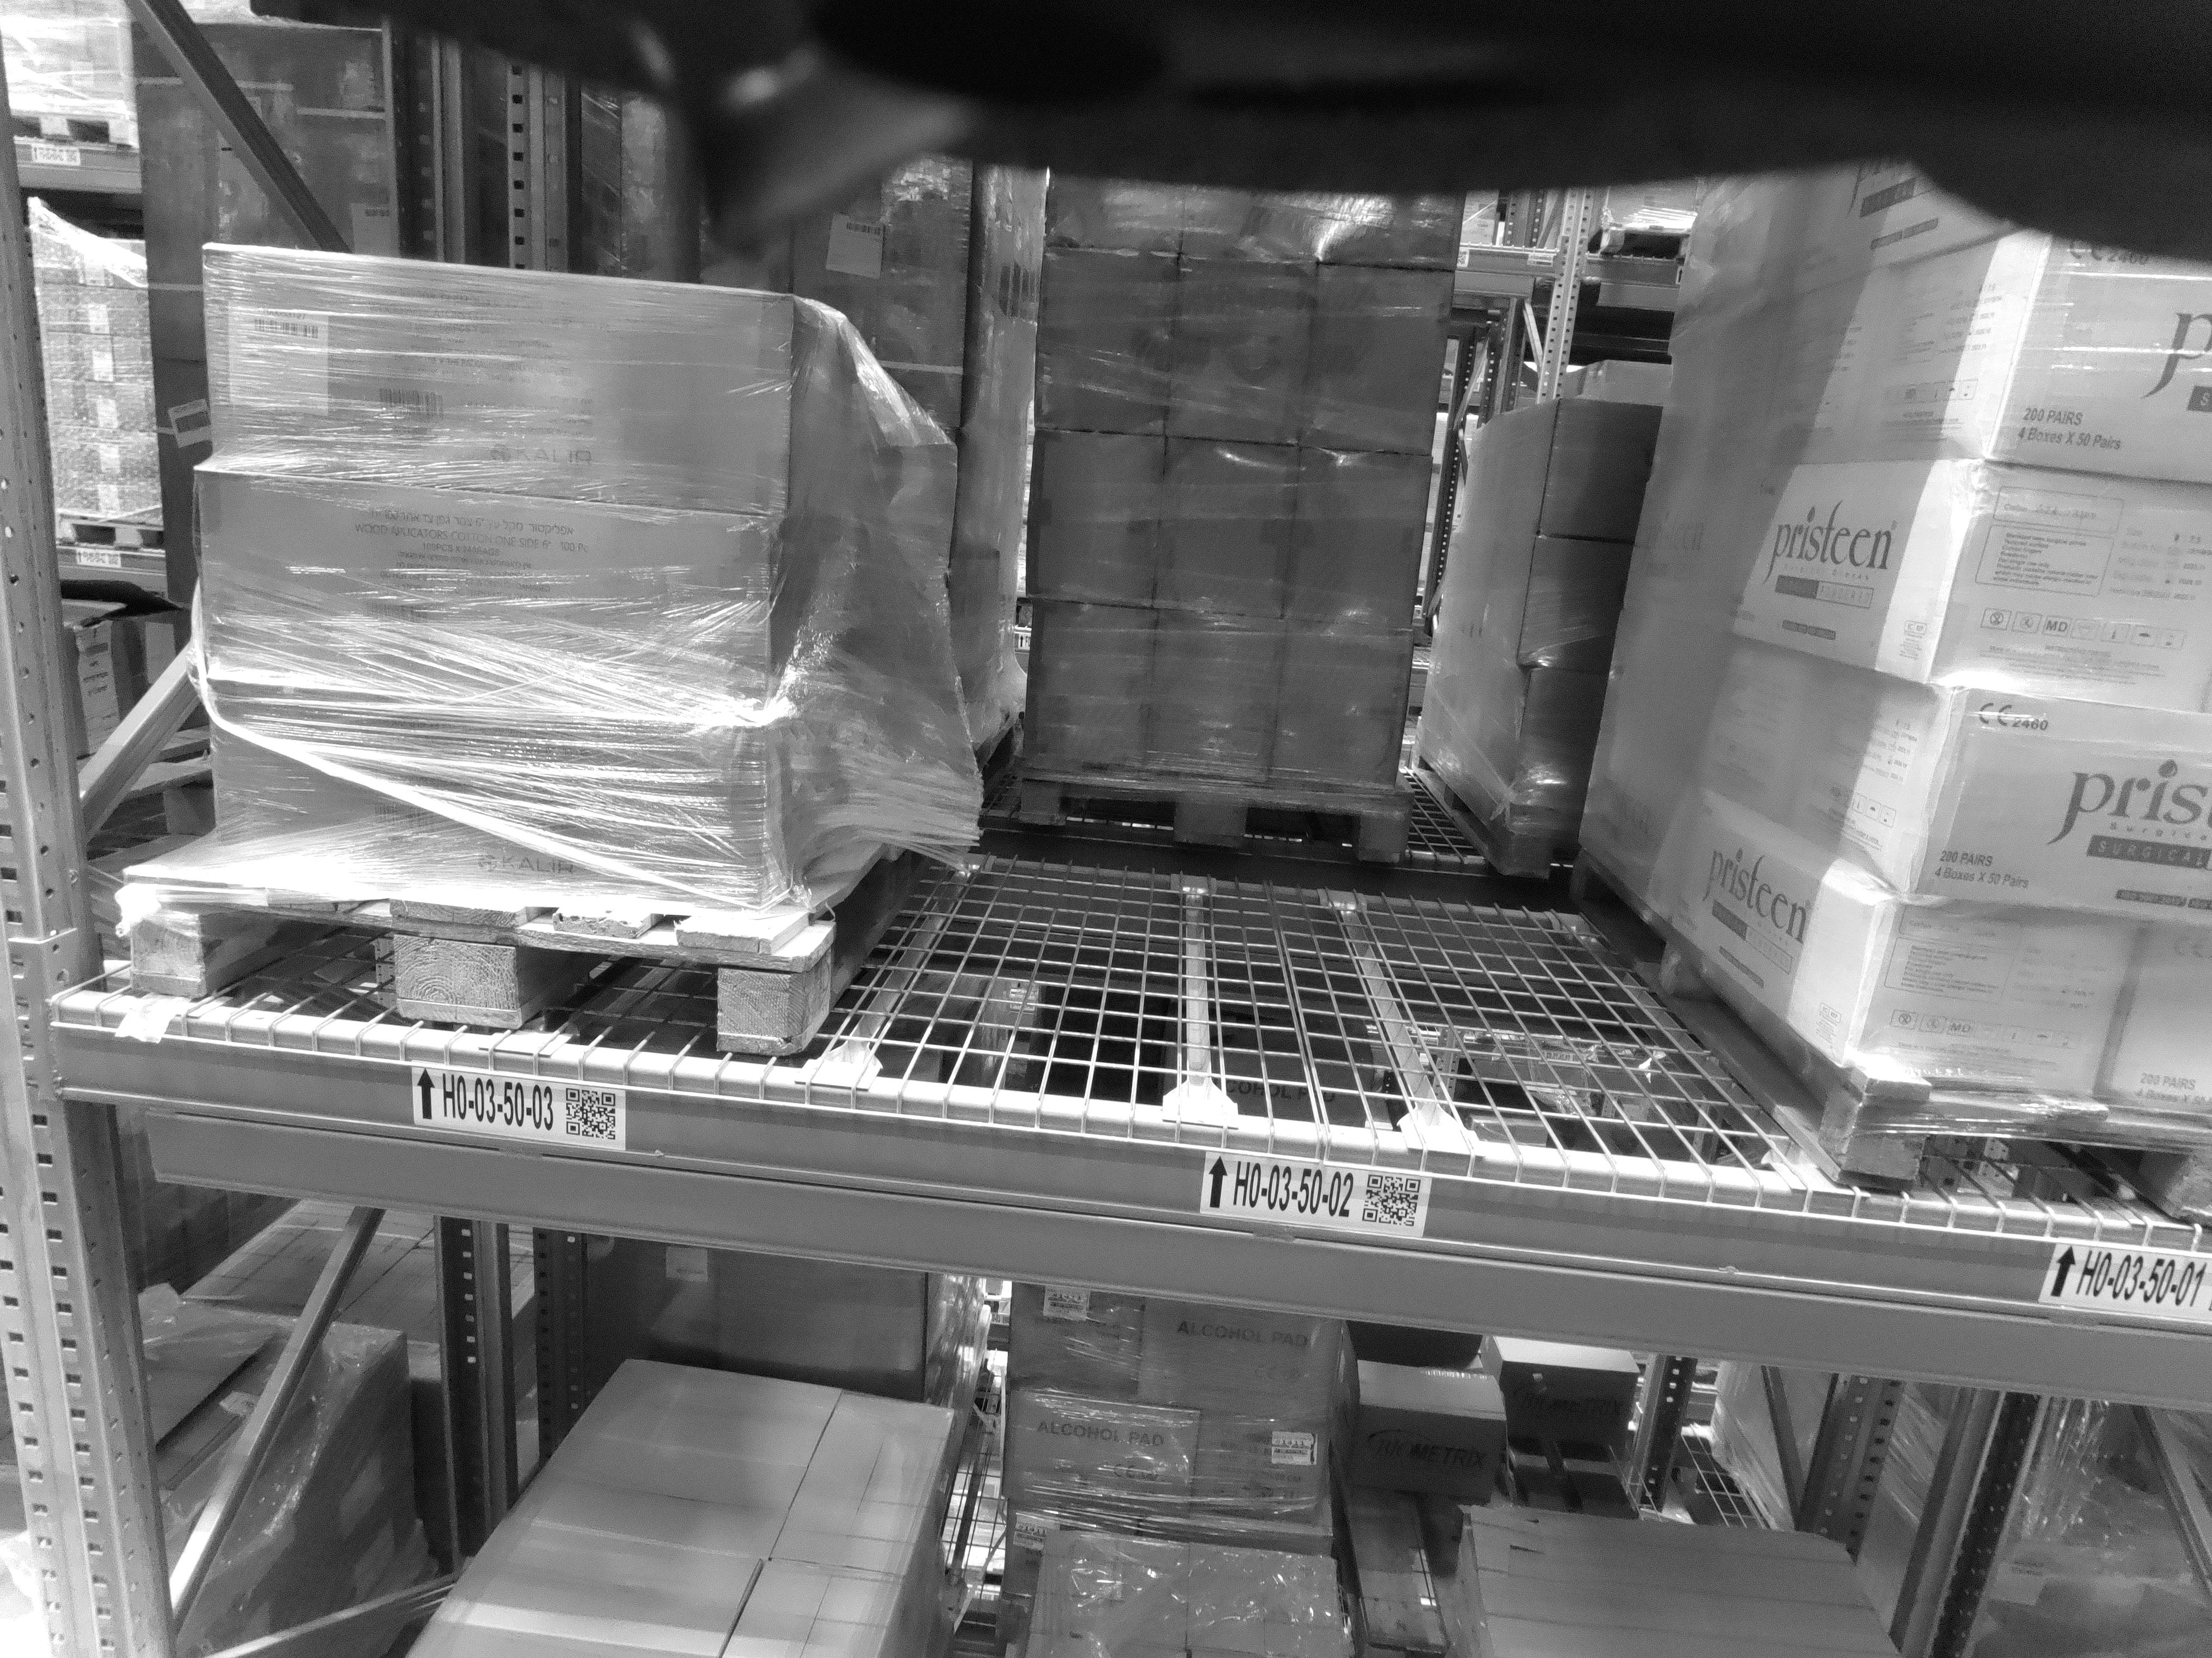empty-shelf: (958, 172, 1573, 1134)
